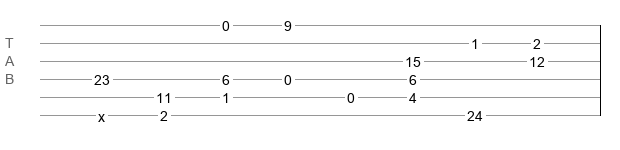0: (222, 18, 230, 28), (284, 72, 292, 82), (347, 90, 355, 100)
1: (222, 90, 230, 100), (471, 36, 479, 46)
11: (156, 90, 172, 100)
12: (529, 54, 545, 64)
15: (405, 54, 421, 64)
2: (160, 108, 168, 118), (533, 36, 541, 46)
23: (94, 72, 110, 82)
24: (467, 108, 483, 118)
4: (409, 90, 417, 100)
6: (222, 72, 230, 82), (409, 72, 417, 82)
9: (284, 18, 292, 28)
x: (98, 109, 105, 117)
